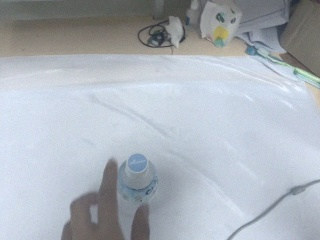bottle: (114, 152, 160, 236)
box: (278, 1, 320, 85), (199, 1, 242, 47)
